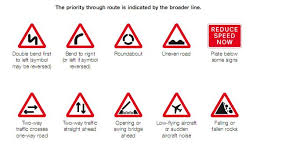Double_bend_left: (15, 20, 48, 51)
